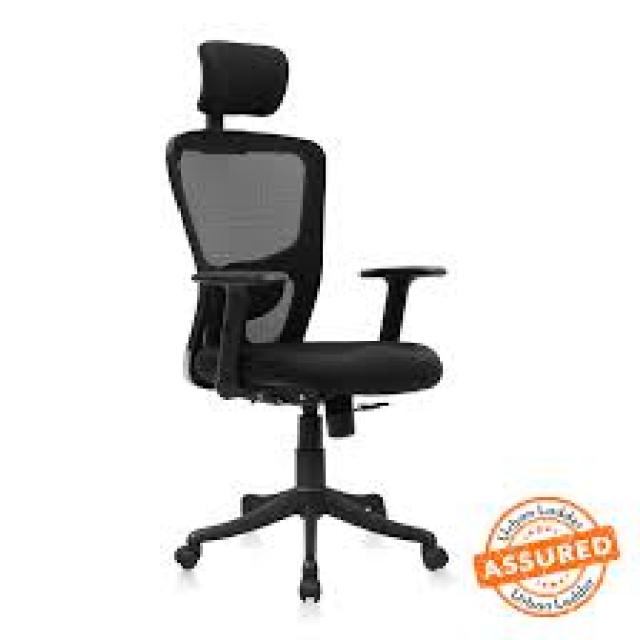chair: (82, 24, 496, 619)
